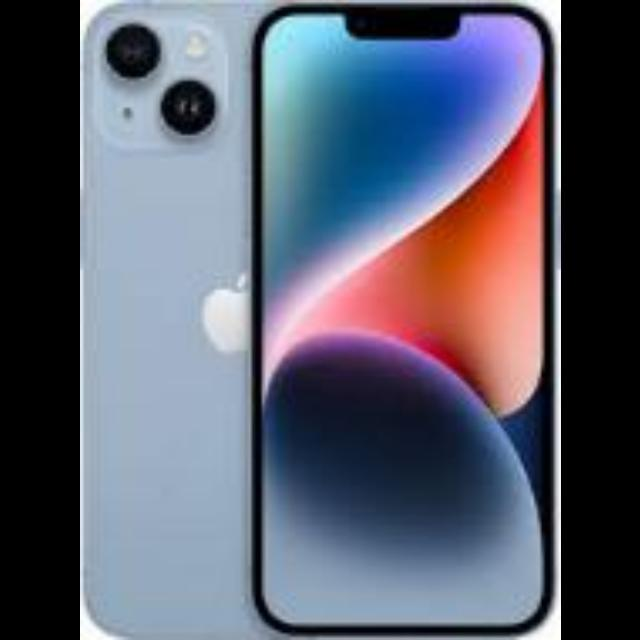Phone: (252, 4, 560, 636), (81, 0, 252, 640)
